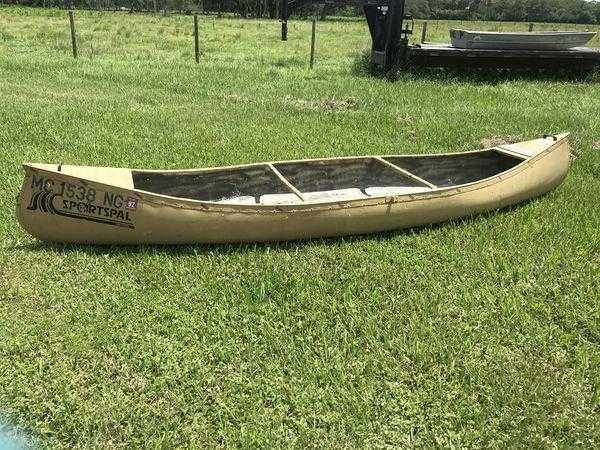kayak: (17, 133, 581, 248), (447, 28, 596, 51)
